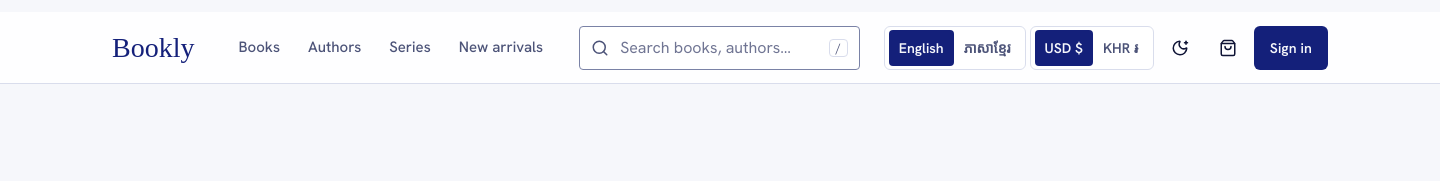
it: i18n system › renders LanguageSwitch in SiteHeader and updates header navigation on language change
The width and height of the screenshot is (1440, 181).
Check: the link "Books" is shown, box [238,37,280,57]
Step 1. Click the radio button labelled "ភាសាខ្មែរ" → coordinates (987, 48), box [954,30,1021,66]
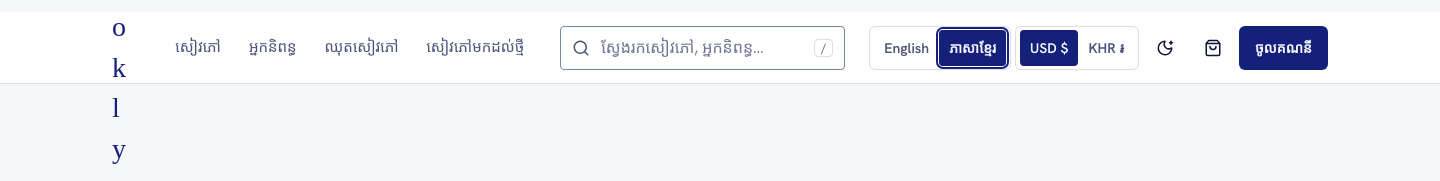
Check: the link "សៀវភៅ" is shown, box [175,37,221,57]
